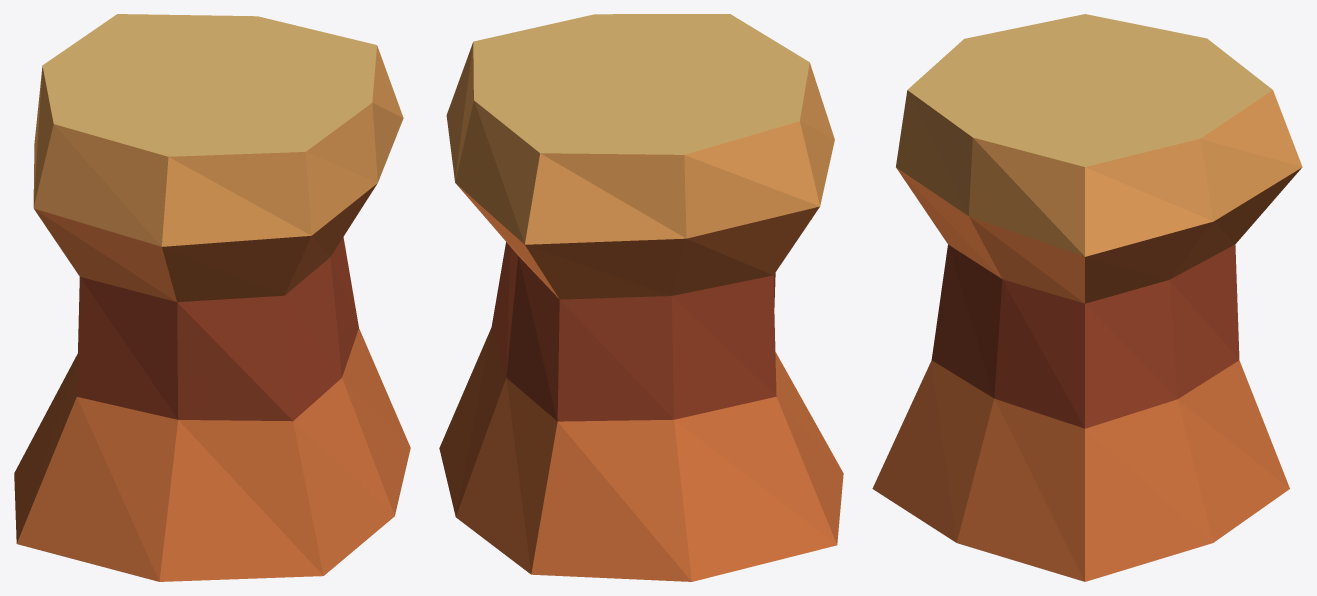
The model's file is CA_Pilar_Roca_Bajo.obj.
3 renders of one model, left to right at view 1: azimuth 30°, elevation 25°; view 2: azimuth 150°, elevation 25°; view 3: azimuth 270°, elevation 25°, orthographic. The views are drawn at different scales.
Visible parts, largest first — view 1: CA_Pilar_Roca_Bajo; view 2: CA_Pilar_Roca_Bajo; view 3: CA_Pilar_Roca_Bajo.
Part boxes in pixels (x1,y1,x2,y2): CA_Pilar_Roca_Bajo: [14, 14, 410, 581]; CA_Pilar_Roca_Bajo: [439, 14, 843, 581]; CA_Pilar_Roca_Bajo: [872, 14, 1302, 581].
Bounding box in the file's own units: 3.11 × 3.1 × 3.03.
